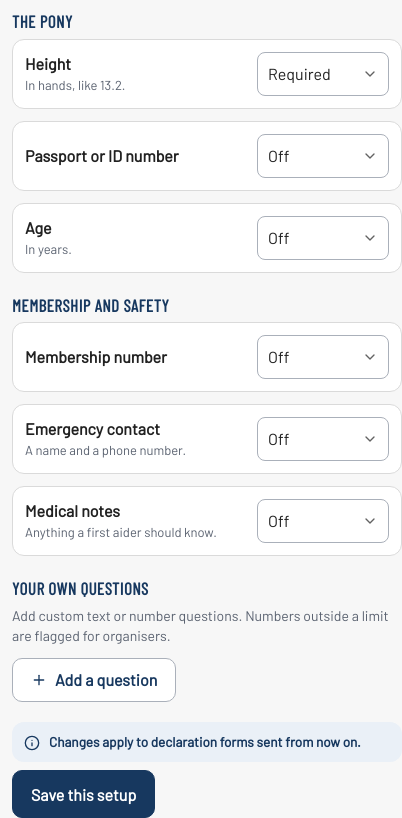
Test case: DecFormConfigEditor › shows the reason when saving fails
(page scrolled)
Click the button "Save this setup". click: (84, 794)
box: x1=12 y1=770 x2=155 y2=817
(page scrolled)
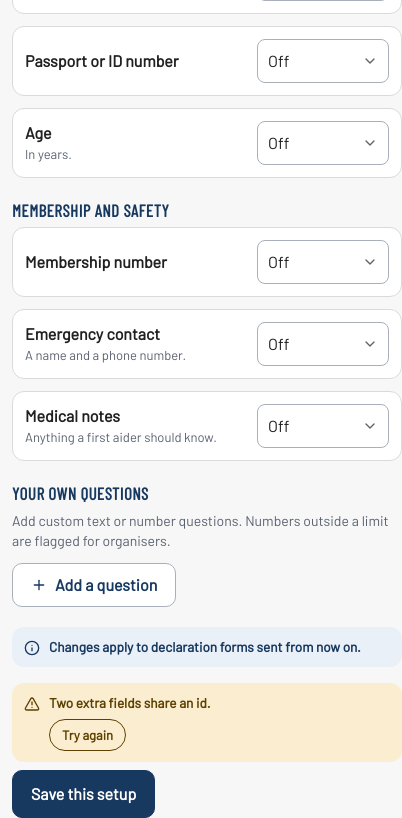
Check: the message shows "Two extra fields share an id.", box x1=49 y1=694 x2=211 y2=711
